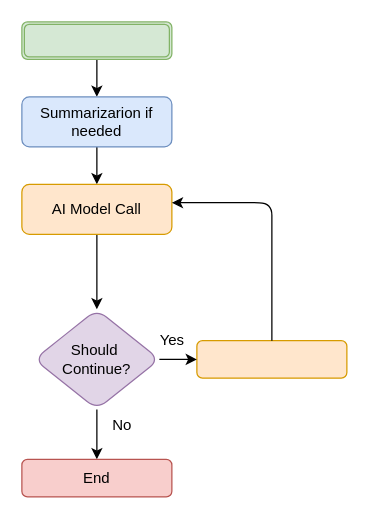
This 369x519 diagram has some shape labels left out. The centre of each missing label's shape, as x and y in pixels:
Start: (96,40)
Tool Node: (271,358)
